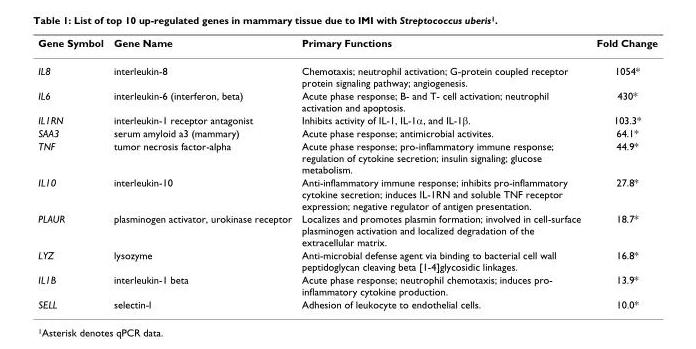table: (37, 36, 657, 309)
table column: (295, 36, 588, 309), (107, 36, 295, 309), (37, 36, 107, 309), (588, 36, 657, 309)
table column header: (37, 36, 657, 56)
table row: (37, 211, 657, 248), (37, 139, 657, 175), (37, 175, 657, 211), (37, 56, 657, 88), (37, 272, 657, 297), (37, 88, 657, 112), (37, 248, 657, 272), (37, 36, 657, 56), (37, 112, 657, 126), (37, 126, 657, 139), (37, 297, 657, 309)
